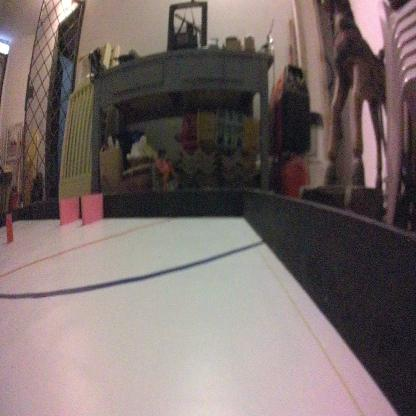magenta: (80, 191, 104, 228), (57, 194, 80, 226)
red: (3, 208, 14, 250)
